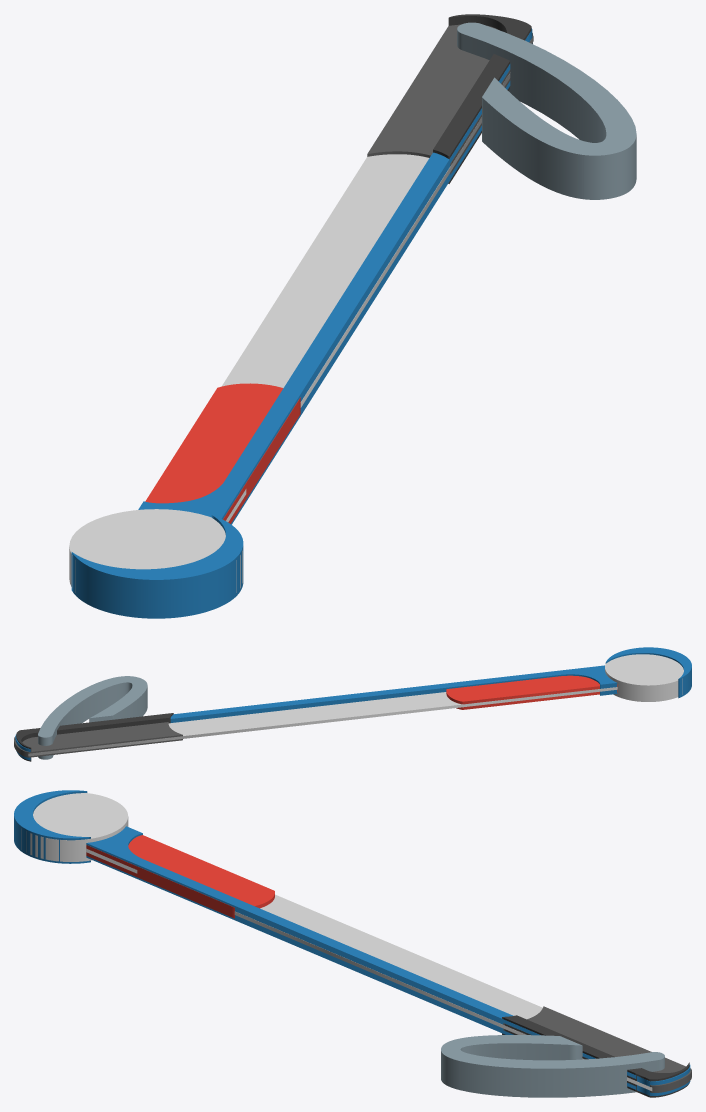
File: emoji_u1f9af.glb
The picture shows the model from 3 angles, top to bottom: view 1: azimuth 30°, elevation 25°; view 2: azimuth 150°, elevation 25°; view 3: azimuth 270°, elevation 25°; orthographic projection. The views are drawn at different scales.
Parts seen in each view (by area): view 1: emoji_u1f9af; view 2: emoji_u1f9af; view 3: emoji_u1f9af.
Boxes of the visible parts, x1=… form: emoji_u1f9af: x1=69, y1=14, x2=636, y2=618; emoji_u1f9af: x1=14, y1=647, x2=691, y2=761; emoji_u1f9af: x1=14, y1=790, x2=691, y2=1097.
Bounding box in the file's own units: 0.0338 × 0.0016 × 0.0338.
